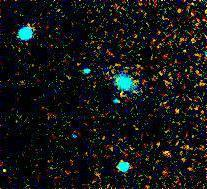star: (0, 156, 23, 186)
